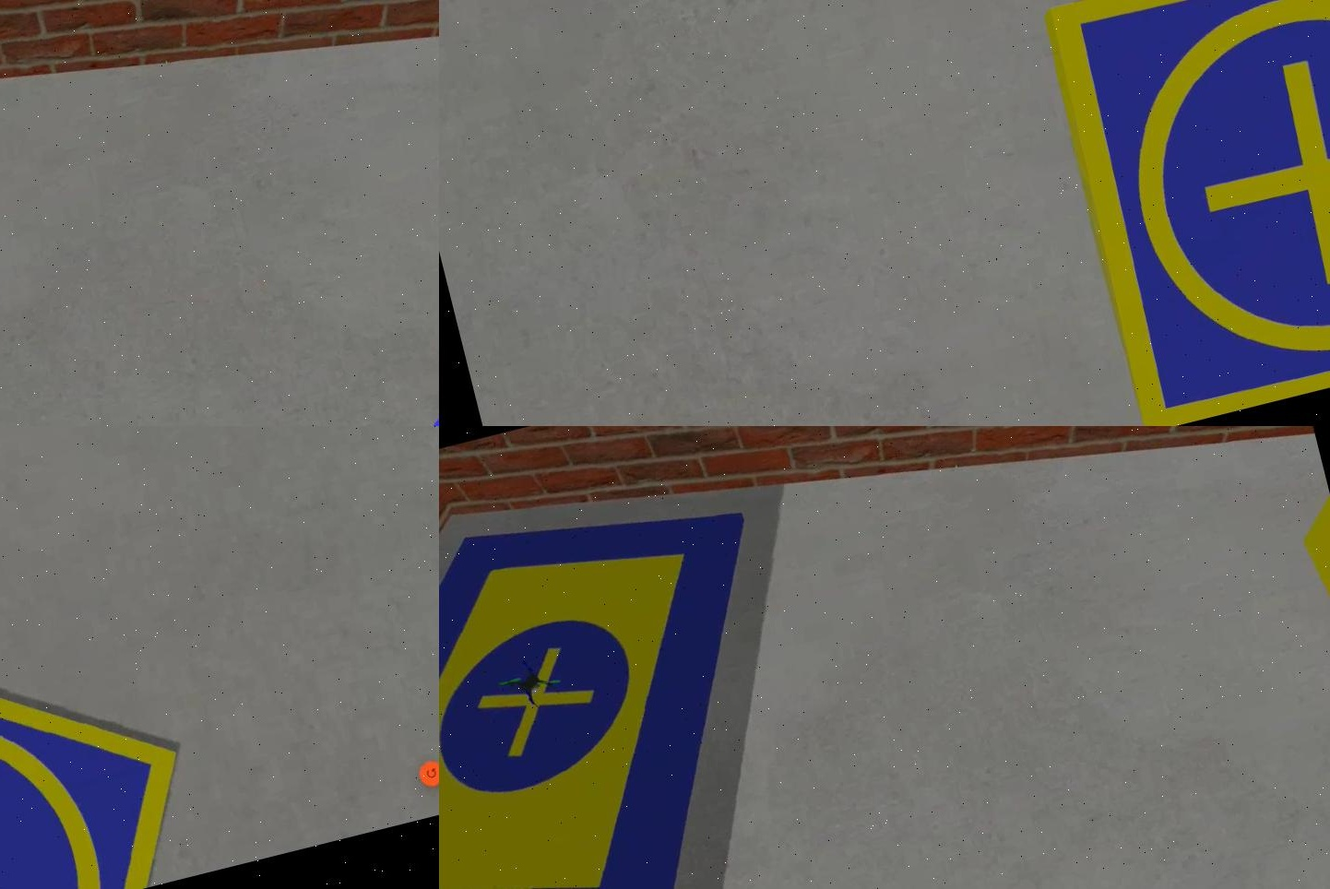large_base: (437, 468, 848, 889)
small_base: (1040, 1, 1328, 426), (0, 561, 207, 889)
